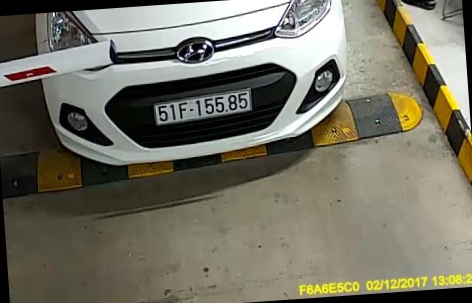plate: (146, 81, 275, 129)
